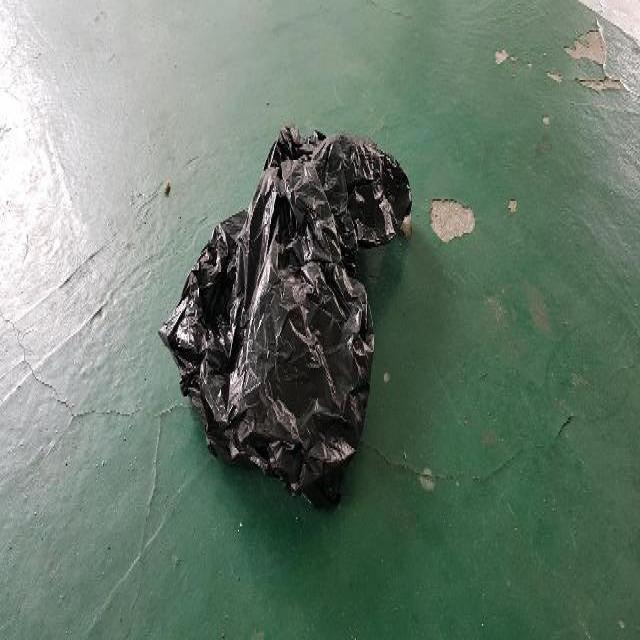plastic bag: (156, 120, 414, 517)
